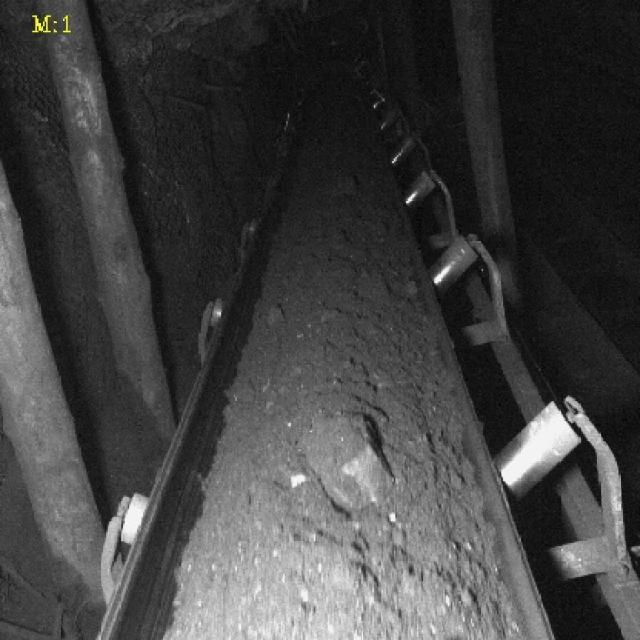large_sized_coal: (300, 414, 394, 512)
